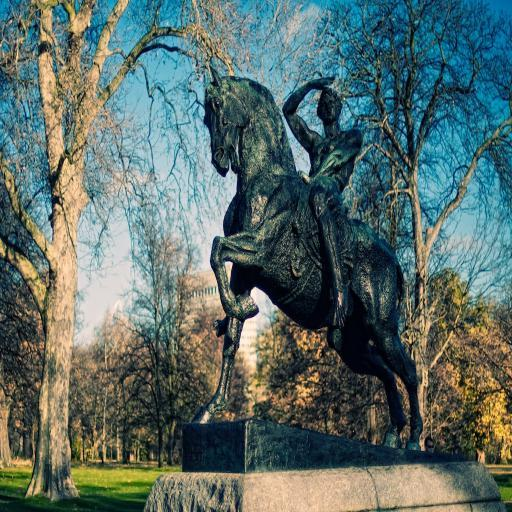Horse: (187, 62, 425, 456)
